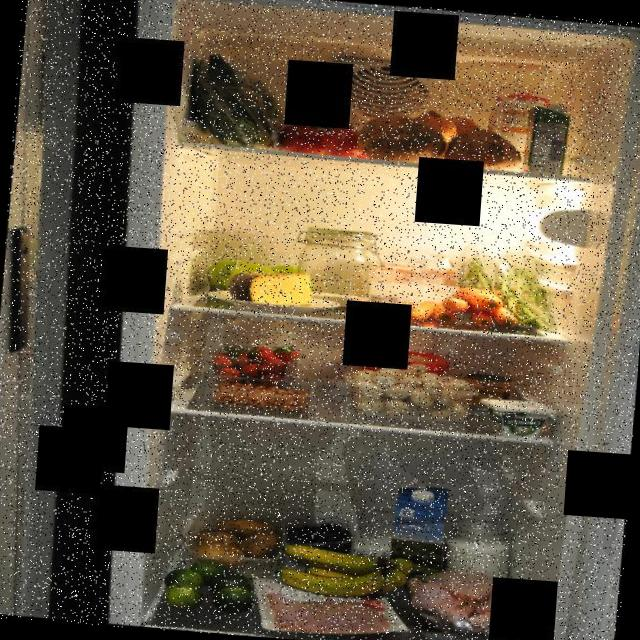Carne cerdo: (266, 584, 394, 639)
Carne pollo: (396, 559, 539, 640)
Cebolla: (406, 105, 484, 144)
Champiñones: (338, 355, 474, 425)
Gambas/Langostinos: (205, 378, 315, 413)
Leche: (385, 481, 456, 587)
Mantequilla: (349, 342, 449, 384)
Manzana: (200, 257, 316, 299)
Patata: (190, 506, 286, 570)
Plátano: (284, 537, 408, 603)
Queso: (474, 396, 558, 440), (228, 264, 316, 306)
Tomate: (273, 115, 376, 158)
Zanahoria: (436, 283, 518, 333), (364, 296, 437, 325)
blueberries: (287, 514, 356, 552)
corn: (464, 372, 512, 410)
flour: (285, 220, 381, 310), (364, 246, 462, 310)
green_beans: (439, 228, 562, 338)
heavy_cream: (524, 101, 576, 179)
spinach: (176, 34, 298, 156)
strawberries: (208, 335, 306, 386)
sugar: (484, 90, 552, 176), (444, 509, 515, 585)
sweet_potato: (347, 110, 530, 176)
